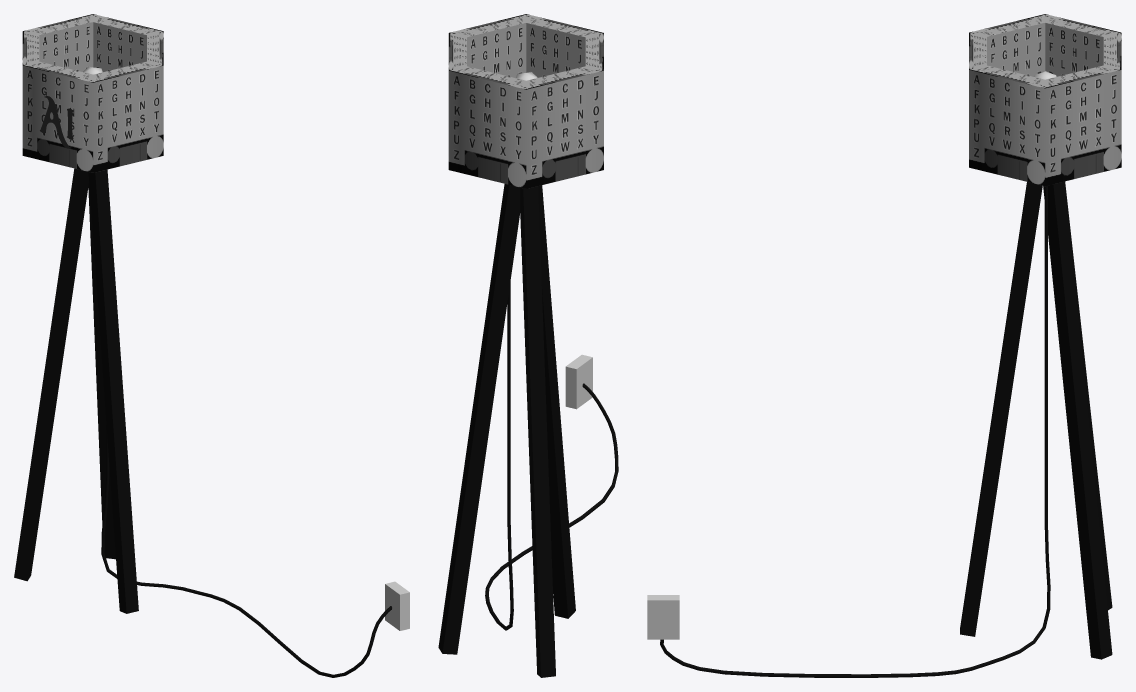
File: obj_lamp 1.FBX
3 renders of one model, left to right at view 1: azimuth 30°, elevation 25°; view 2: azimuth 150°, elevation 25°; view 3: azimuth 270°, elevation 25°, orthographic. The views are drawn at different scales.
Parts seen in each view (by area): view 1: obj_lamp_floor, obj_lamp_floor_letter; view 2: obj_lamp_floor; view 3: obj_lamp_floor.
Boxes of the visible parts, bbox=[...] form: obj_lamp_floor: bbox=[14, 14, 409, 677]; obj_lamp_floor_letter: bbox=[40, 96, 73, 148]; obj_lamp_floor: bbox=[438, 14, 618, 677]; obj_lamp_floor: bbox=[647, 14, 1121, 677].
Bounding box in the file's own units: 33.27 × 84.15 × 61.95.
4 materials, 2 textured.
